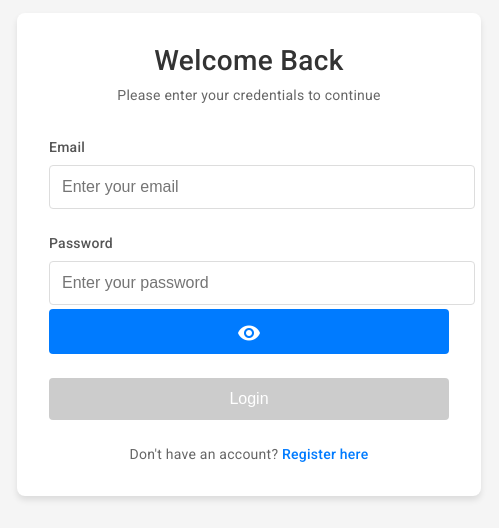
Test: Login Flow › should handle network errors gracefully
The image size is (499, 528).
Type "test@example.com" into the field named "email" at (262, 187), box top-left (49, 165), bottom-right (475, 209)
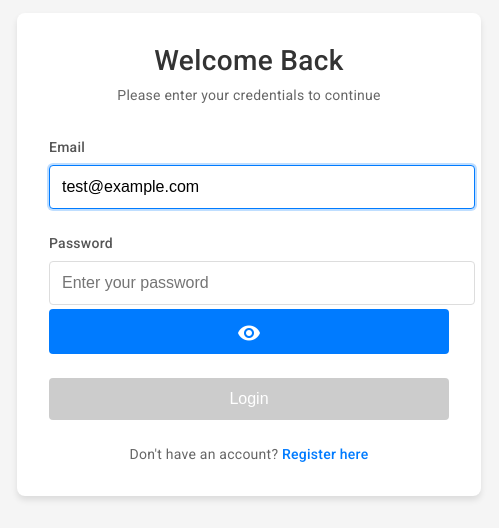
Type "Test123#!" into the password field named "password" at (262, 283), box top-left (49, 261), bottom-right (475, 305)
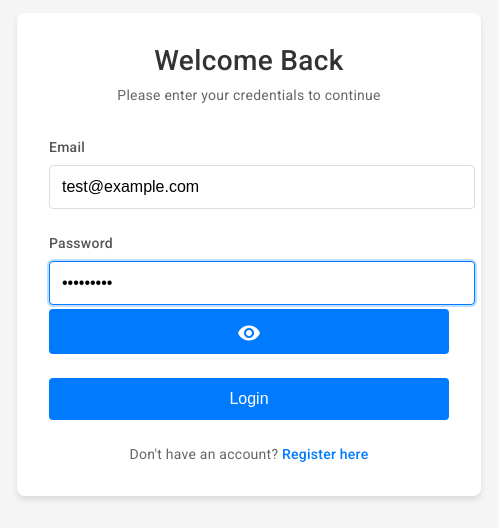
Click the submit button at (249, 399), box top-left (49, 378), bottom-right (449, 420)
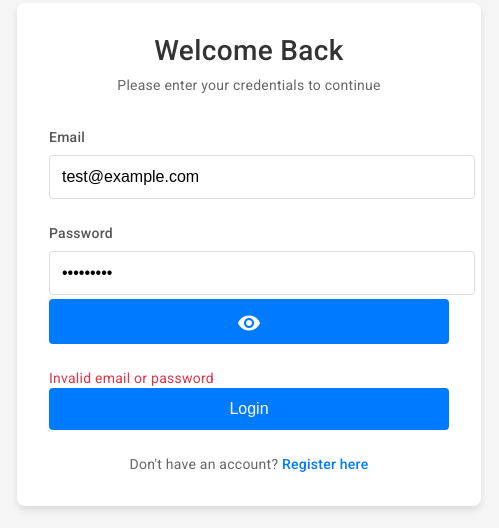
Now the text with class "error-message" reads "Invalid email or password", box top-left (49, 370), bottom-right (214, 386)
